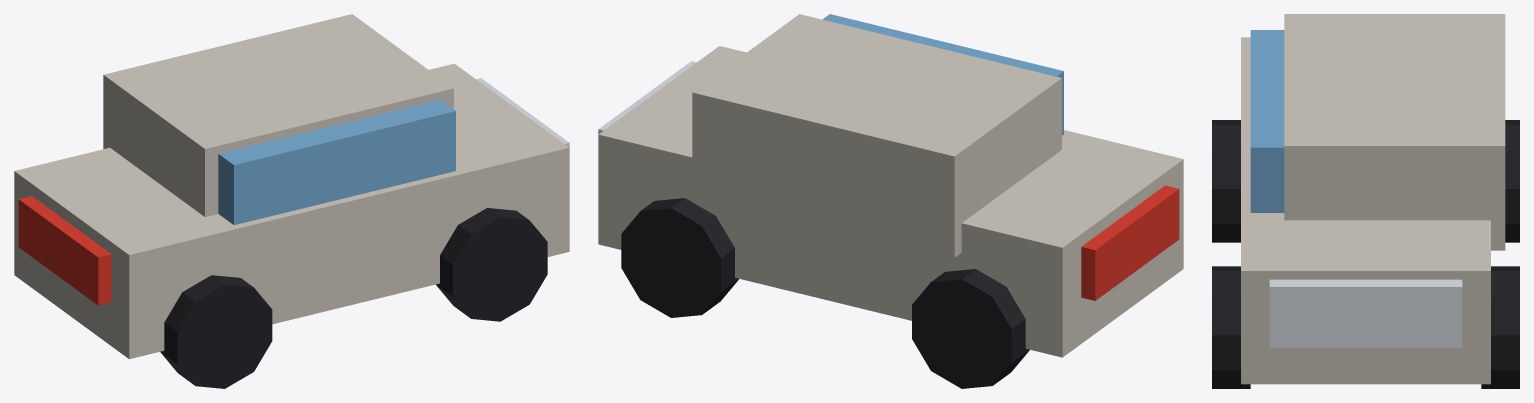
Rendered from toy_car.glb.
3 views of the same model, side by side, from view 1: azimuth 30°, elevation 25°; view 2: azimuth 150°, elevation 25°; view 3: azimuth 270°, elevation 25° (orthographic). The views are drawn at different scales.
Parts seen in each view (by area): view 1: toy_car; view 2: toy_car; view 3: toy_car.
Part boxes in pixels (left/top/right/bottom): toy_car: left=14, top=14, right=569, bottom=388; toy_car: left=598, top=14, right=1183, bottom=388; toy_car: left=1212, top=14, right=1519, bottom=388.
Bounding box in the file's own units: 0.122 × 0.053 × 0.064.
